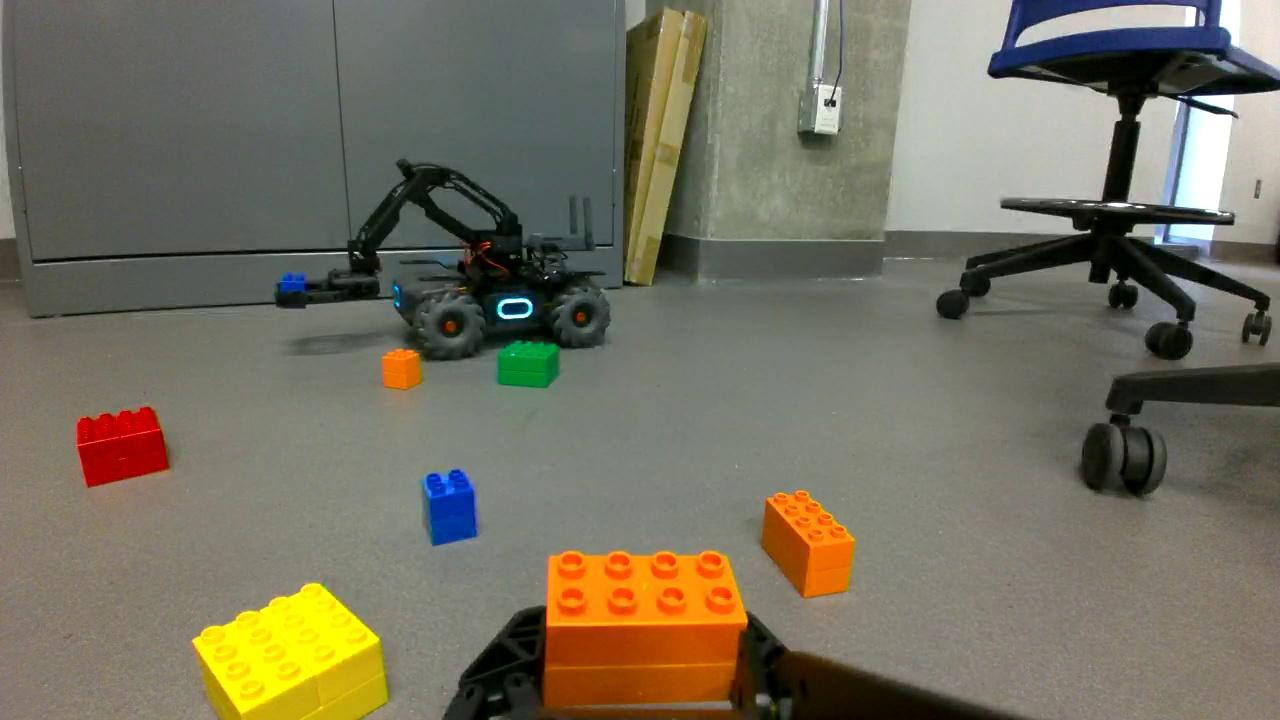2x2lego: (419, 467, 480, 546), (381, 347, 425, 391)
2x4lego: (546, 552, 748, 708), (760, 489, 857, 599)
4x4lego: (190, 580, 392, 720), (75, 406, 171, 489), (496, 338, 562, 388)
